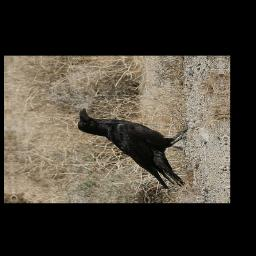Crow: (76, 106, 192, 191)
